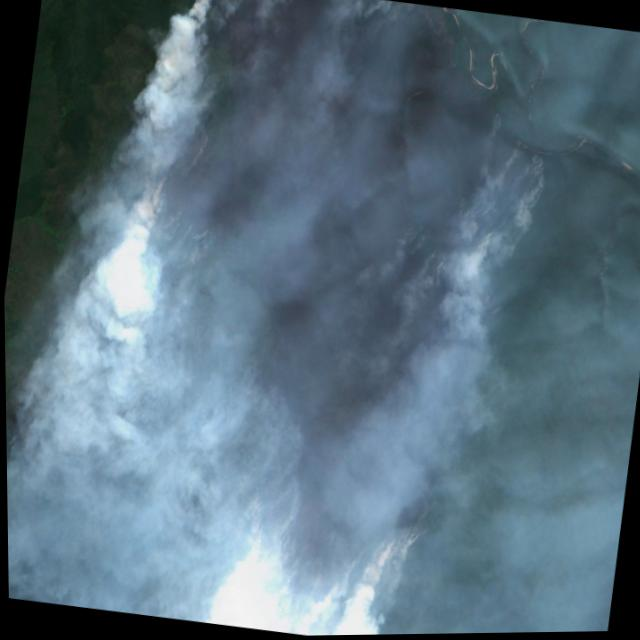fire: (382, 115, 560, 320), (106, 154, 183, 255), (342, 515, 439, 585), (170, 0, 237, 26)
